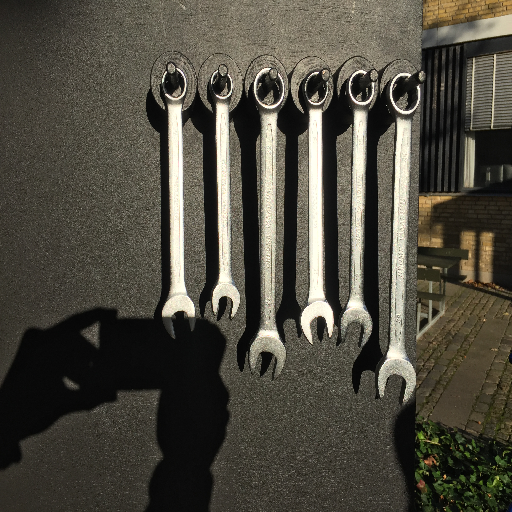bottom: (376, 354, 417, 406), (248, 327, 287, 381), (160, 292, 197, 341), (339, 297, 373, 348), (299, 299, 334, 345), (211, 281, 242, 320)
top: (251, 64, 286, 112), (387, 71, 423, 117), (298, 68, 331, 110), (346, 67, 377, 110), (160, 66, 190, 104), (206, 69, 236, 103)
